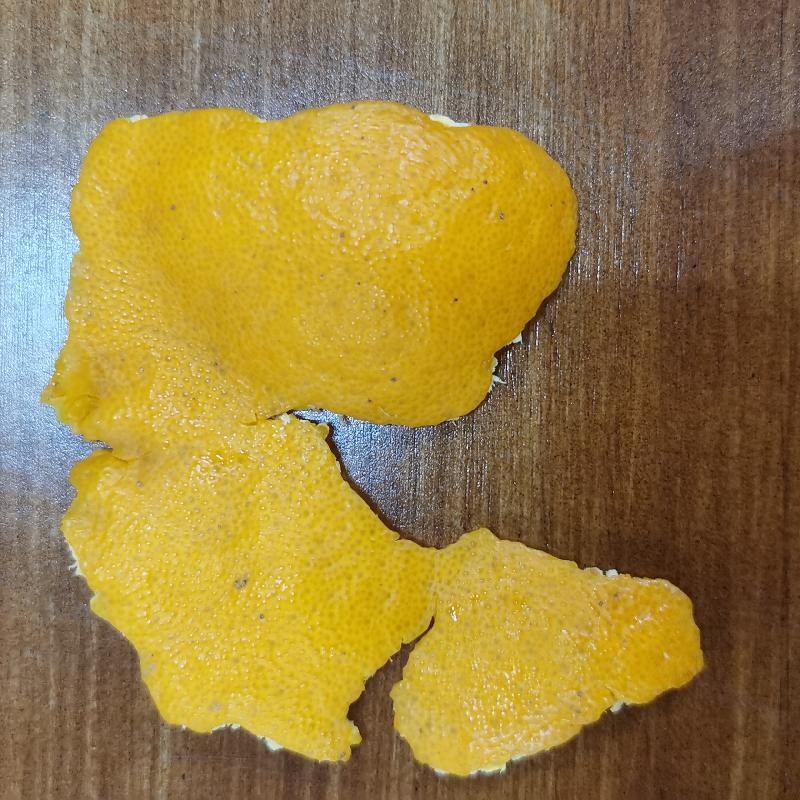orange: (46, 101, 708, 762)
